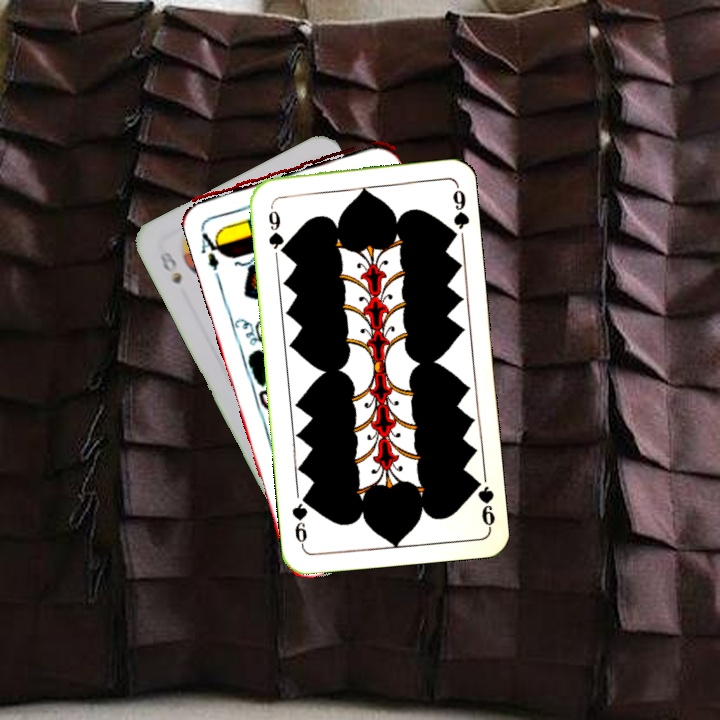EA: (196, 217, 227, 278)
G9: (468, 473, 498, 531), (264, 200, 288, 258)
S8: (155, 247, 185, 287)
